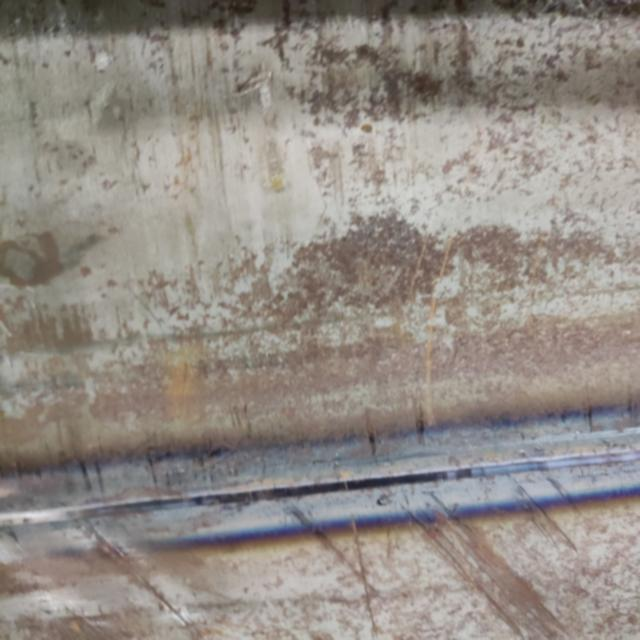seam: (0, 394, 640, 591)
